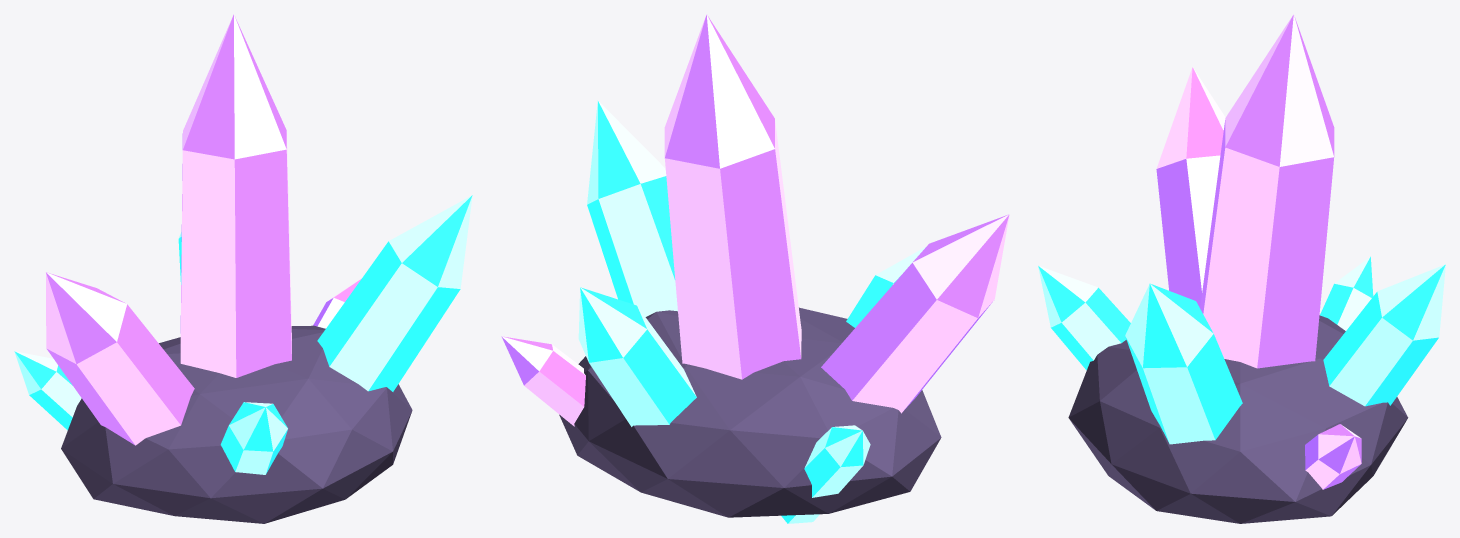
The model's file is crystal_cluster.glb.
The picture shows the model from 3 angles, left to right: view 1: azimuth 30°, elevation 25°; view 2: azimuth 150°, elevation 25°; view 3: azimuth 270°, elevation 25°; orthographic projection. The views are drawn at different scales.
Visible parts, largest first — view 1: crystal_cluster; view 2: crystal_cluster; view 3: crystal_cluster.
Part boxes in pixels (box(x1,y1,x2,y2)): crystal_cluster: box(14, 14, 472, 523); crystal_cluster: box(501, 14, 1009, 523); crystal_cluster: box(1038, 14, 1445, 523).
Size of the model in its own units: 2.54 by 2.69 by 2.09.
